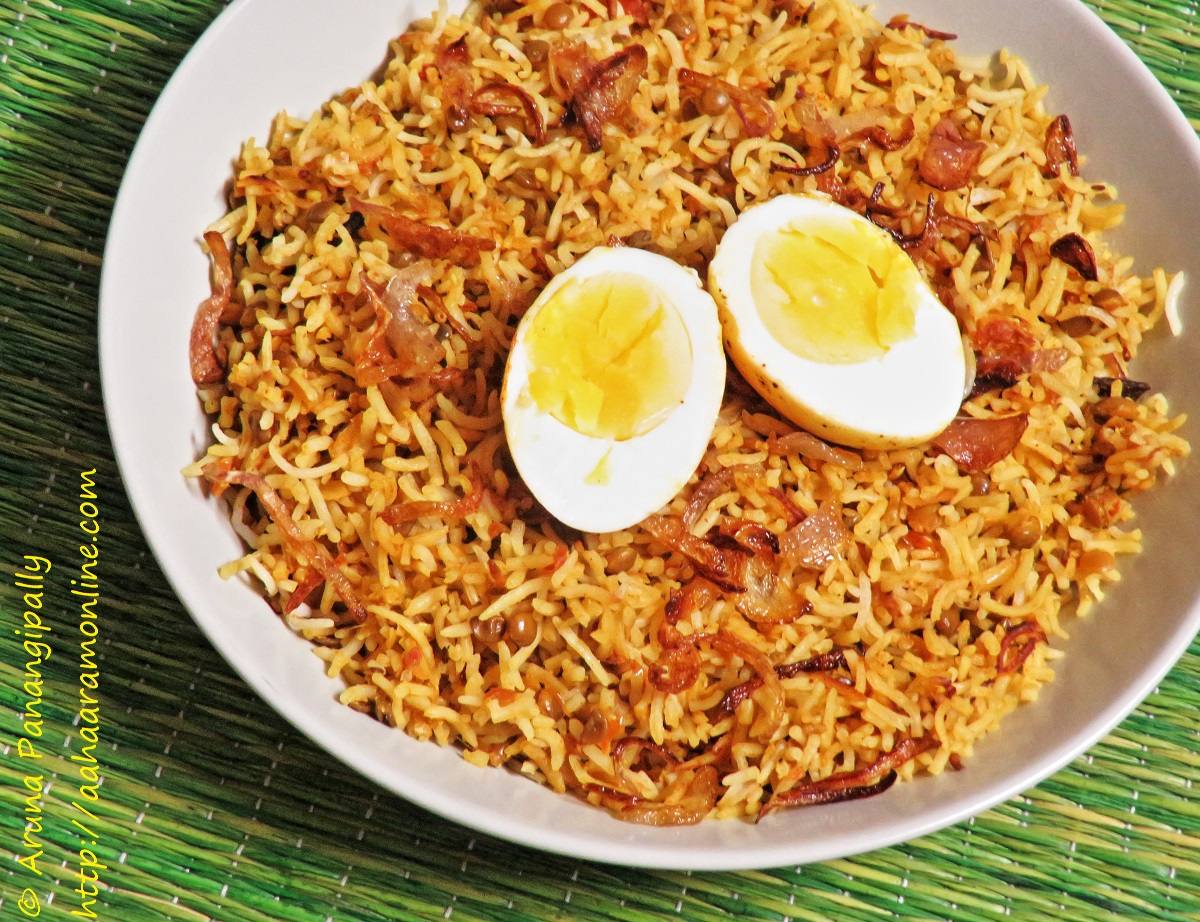egg: (703, 177, 977, 457), (494, 238, 742, 545)
rice: (223, 3, 1179, 786)
